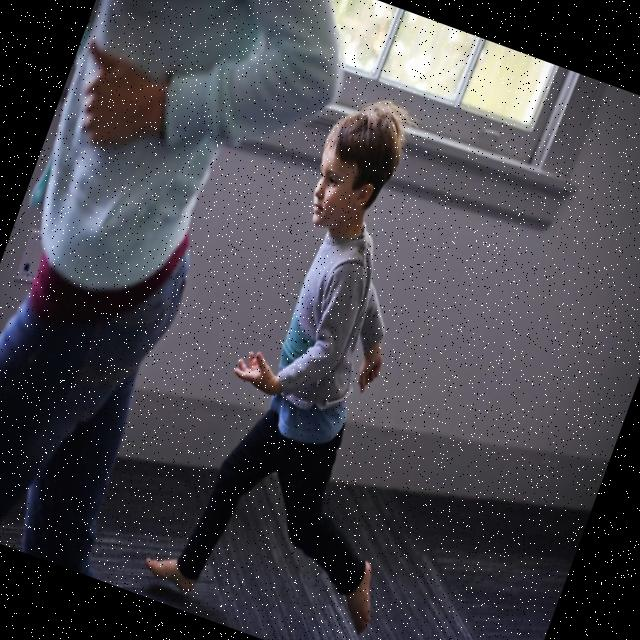Person: (0, 0, 372, 600), (140, 79, 535, 640)
